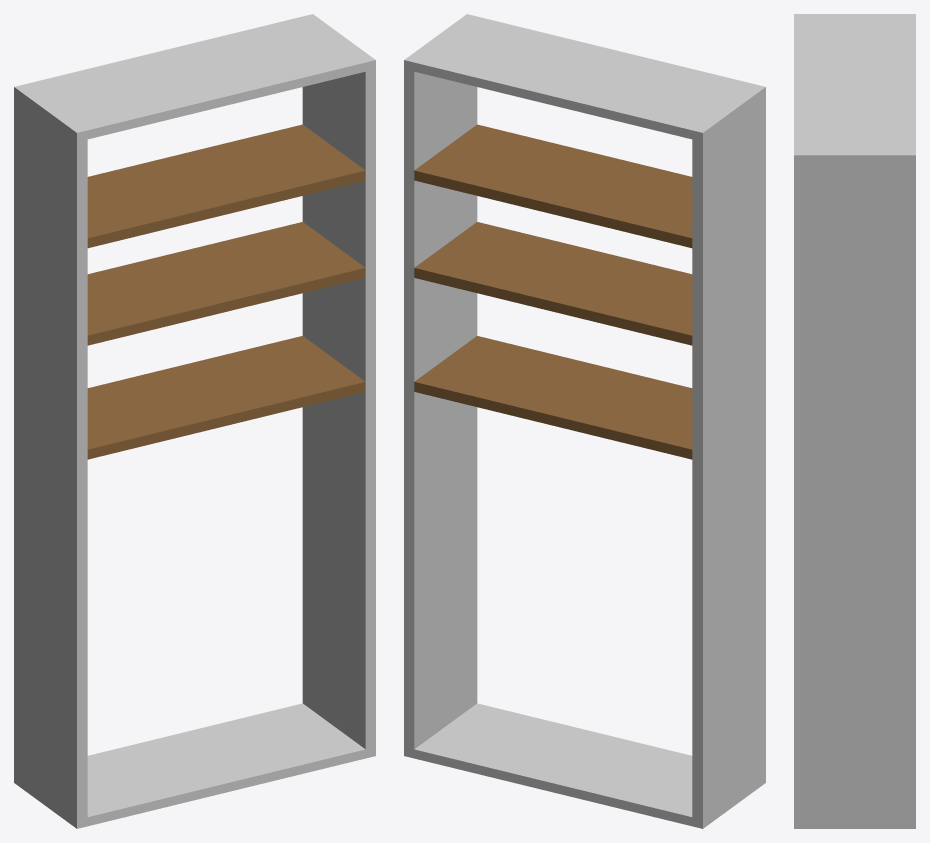
Rendered from shelving.fbx.
3 views of the same model, side by side, from view 1: azimuth 30°, elevation 25°; view 2: azimuth 150°, elevation 25°; view 3: azimuth 270°, elevation 25° (orthographic). The views are drawn at different scales.
Visible parts, largest first — view 1: Shelving; view 2: Shelving; view 3: Shelving.
Part boxes in pixels (box(x1,y1,x2,y2)): Shelving: box(14, 14, 375, 828); Shelving: box(404, 14, 765, 828); Shelving: box(794, 14, 915, 828).
Bounding box in the file's own units: 316 × 703 × 115.
